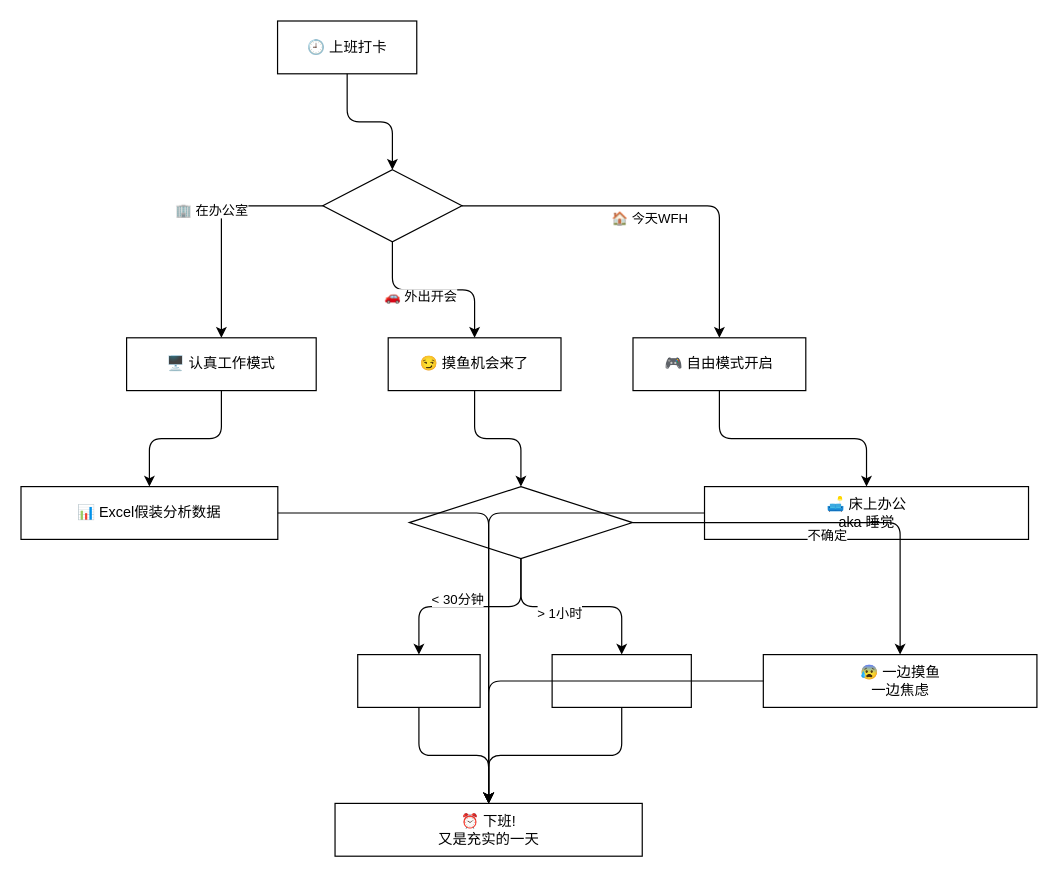
Some shapes in this 1058 by 877 pixel diagram are drawn without their labels. The shapes that lost their labels are listed below. From the top down, each one's box as (x1, y1, x2, y2) in pixels, then its label:
(322, 169, 462, 242): 👀 老板在哪
(408, 485, 633, 559): ⏱️ 预计老板多久回来
(357, 653, 480, 707): 📱 刷手机
(551, 653, 691, 707): 🍿 看一集剧
